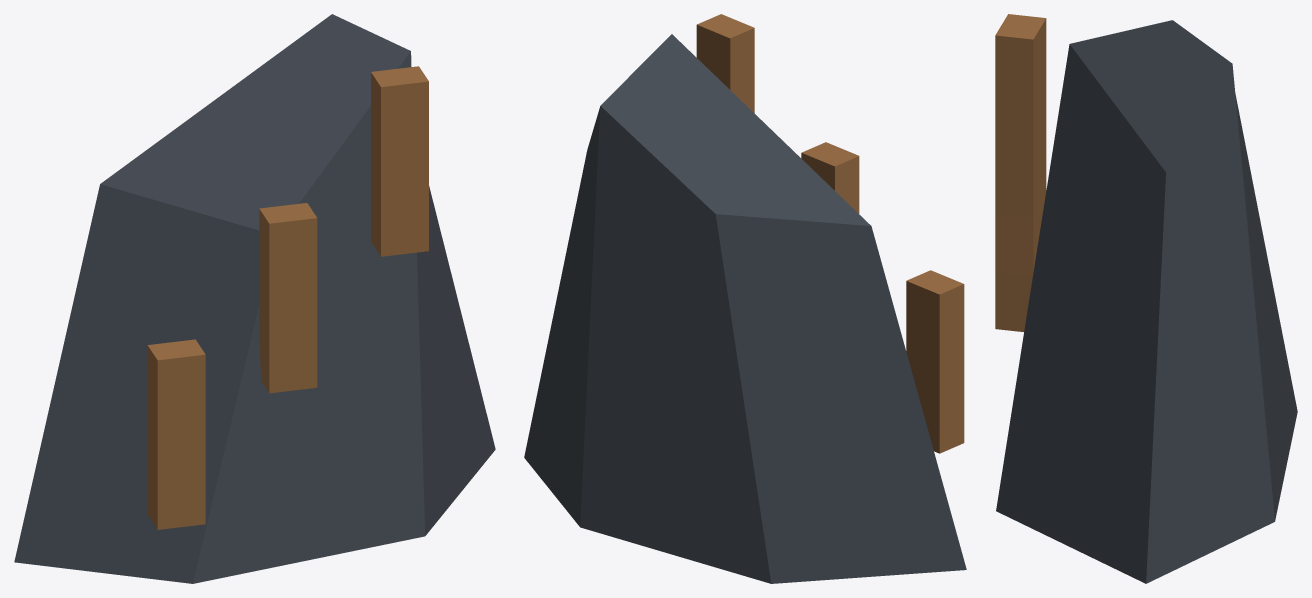
The model's file is map-boundaries-v5__iron_02.glb.
3 renders of one model, left to right at view 1: azimuth 30°, elevation 25°; view 2: azimuth 150°, elevation 25°; view 3: azimuth 270°, elevation 25°, orthographic. The views are drawn at different scales.
Visible parts, largest first — view 1: iron_02; view 2: iron_02; view 3: iron_02.
Boxes of the visible parts, x1,y1,x2,y2 form: iron_02: [14, 14, 495, 583]; iron_02: [524, 14, 966, 583]; iron_02: [995, 14, 1297, 583].
Bounding box in the file's own units: 1.32 × 1.21 × 0.6918.
